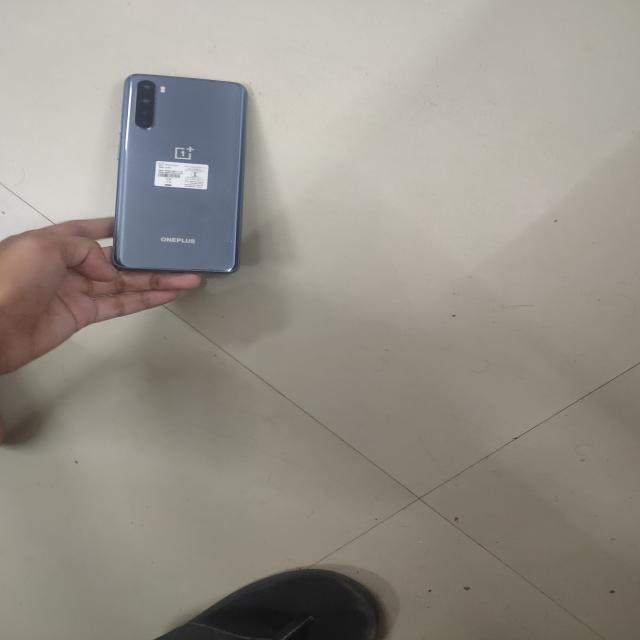Phone: (112, 72, 254, 278)
